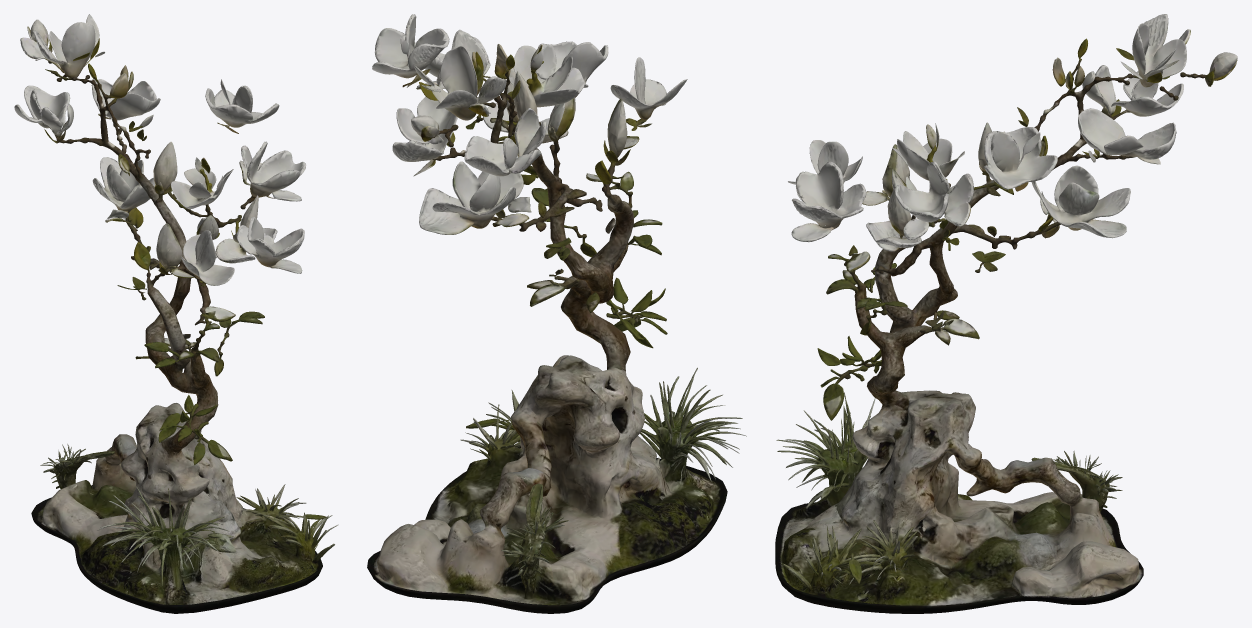
File: soo-bonsai.glb
3 renders of one model, left to right at view 1: azimuth 30°, elevation 25°; view 2: azimuth 150°, elevation 25°; view 3: azimuth 270°, elevation 25°, orthographic. The views are drawn at different scales.
Parts seen in each view (by area): view 1: tripo_node_acf0df82-e204-4532-bd5c-333ca0742fae; view 2: tripo_node_acf0df82-e204-4532-bd5c-333ca0742fae; view 3: tripo_node_acf0df82-e204-4532-bd5c-333ca0742fae.
Boxes of the visible parts, <box> form: tripo_node_acf0df82-e204-4532-bd5c-333ca0742fae: <box>14,14,338,613</box>; tripo_node_acf0df82-e204-4532-bd5c-333ca0742fae: <box>367,14,746,613</box>; tripo_node_acf0df82-e204-4532-bd5c-333ca0742fae: <box>775,14,1237,613</box>.
Size of the model in its own units: 0.5199 by 0.9991 by 0.7863.
Materials: 1 (1 with a texture image).
